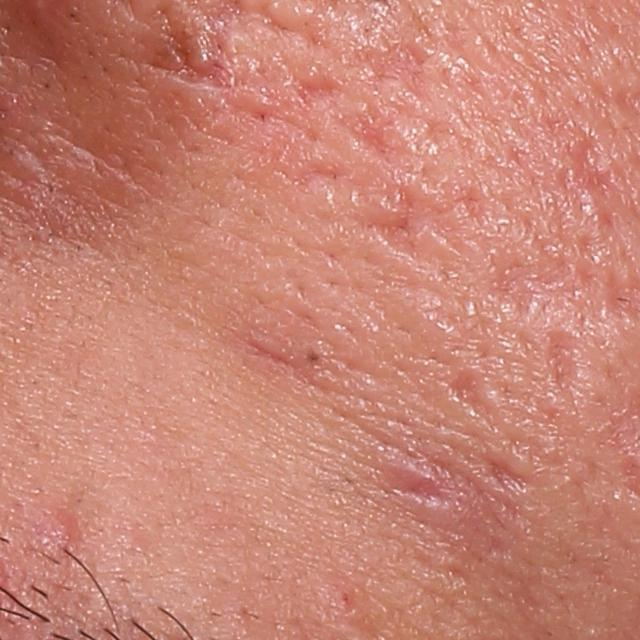atrophic_scar: (553, 131, 617, 225), (370, 200, 452, 264), (453, 446, 538, 504), (442, 368, 508, 437), (266, 68, 340, 124), (365, 36, 428, 101), (344, 120, 418, 172), (377, 471, 453, 511), (543, 332, 572, 402)
